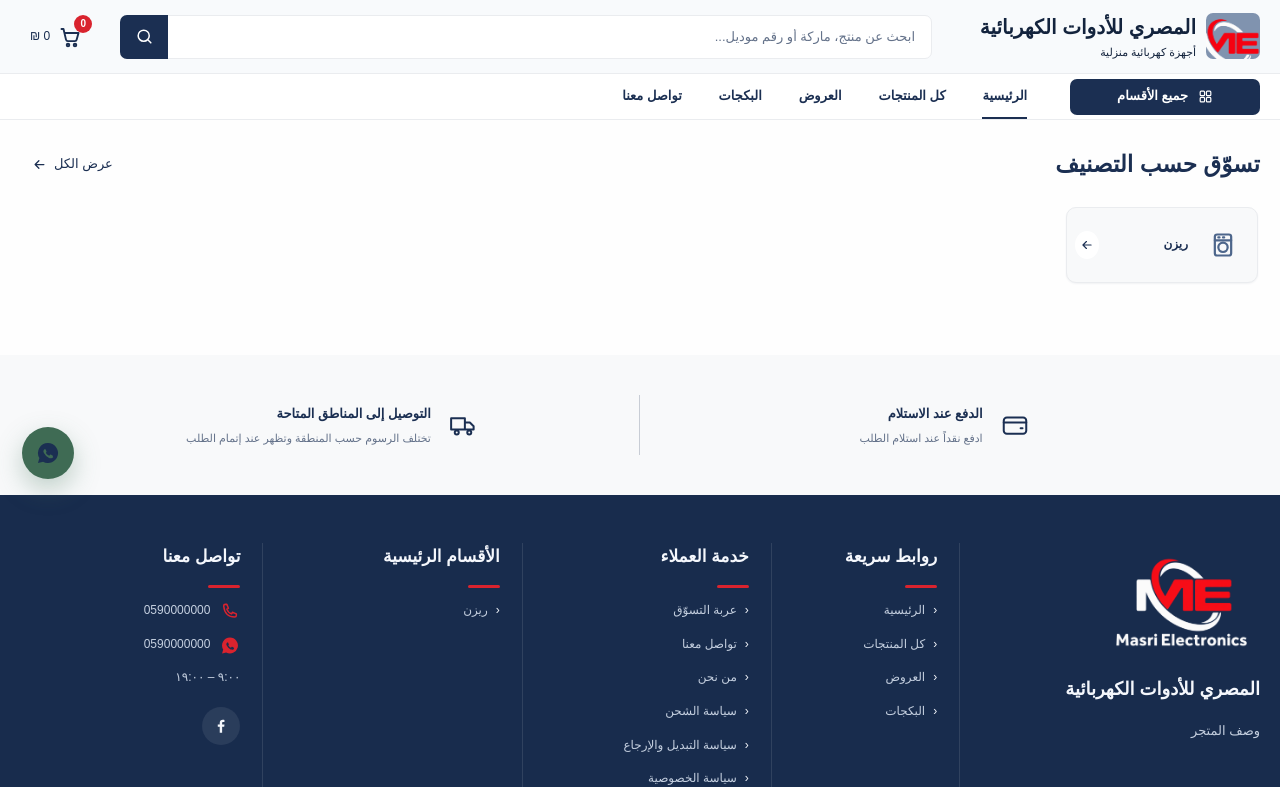
Test: category navigation › links the header directly to categories without opening a panel
What coordinates should you click on to do the following:
click the link "جميع الأقسام"
I would click on:
 (1165, 96)
Its box is [1070,78,1260,114].
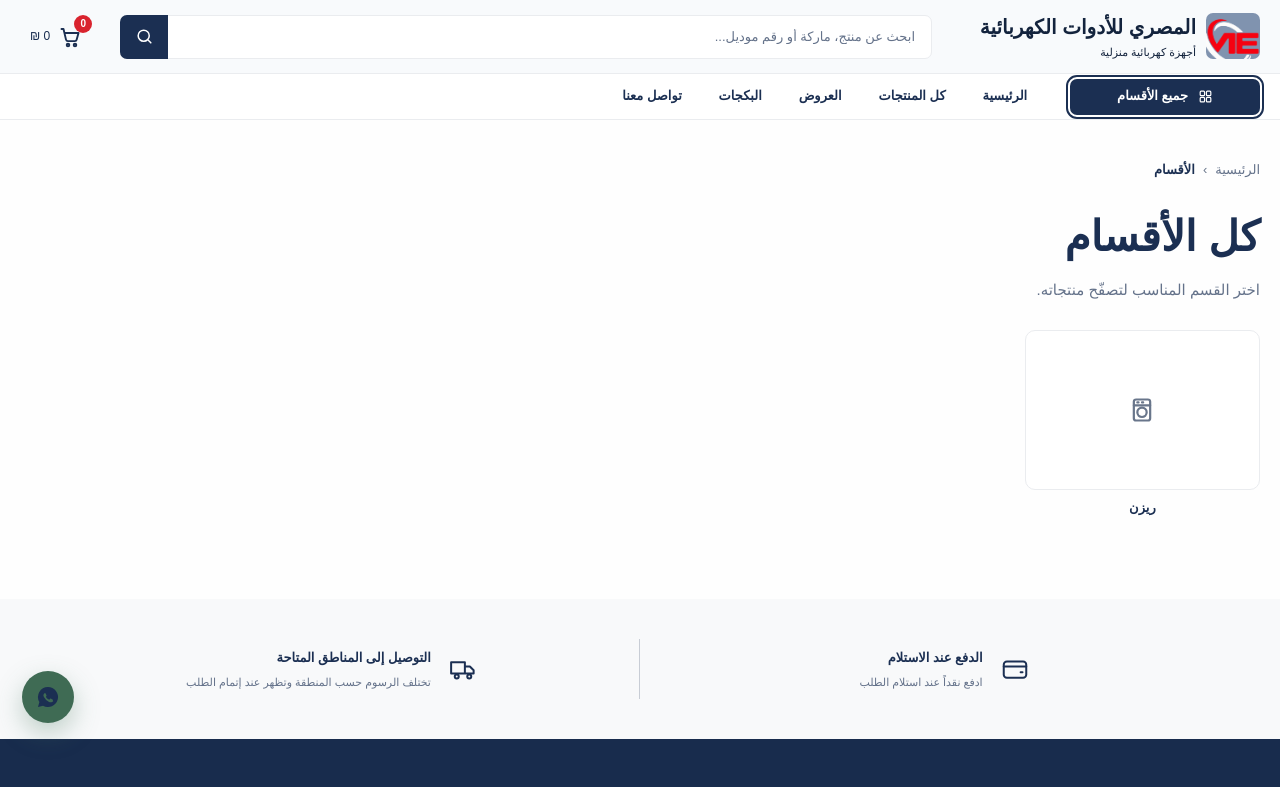
Now the heading "كل الأقسام" is shown, box [1064,213,1260,260]
